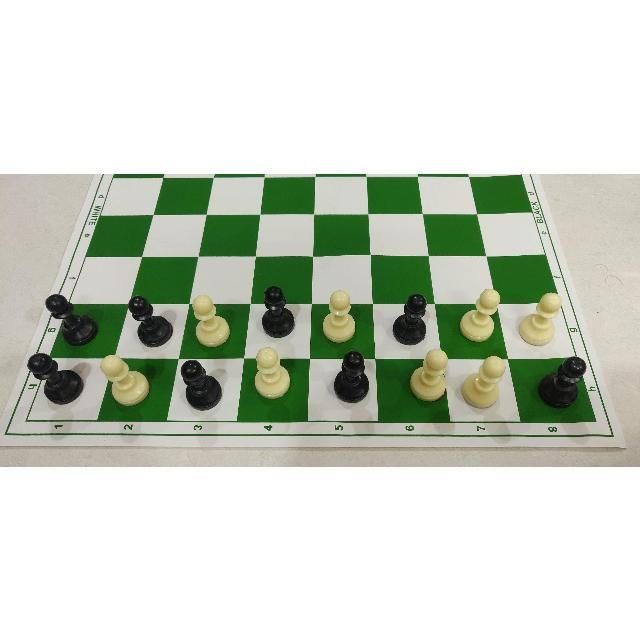black-pawn: (27, 351, 86, 405), (536, 354, 588, 412), (45, 290, 99, 344), (126, 293, 174, 348), (179, 358, 225, 412), (390, 288, 432, 346), (331, 347, 370, 405), (259, 282, 298, 340)
white-pawn: (97, 351, 153, 408), (515, 285, 562, 346), (457, 283, 503, 343), (462, 352, 509, 410), (318, 284, 362, 343), (410, 345, 450, 405), (190, 292, 232, 348), (251, 344, 291, 399)
